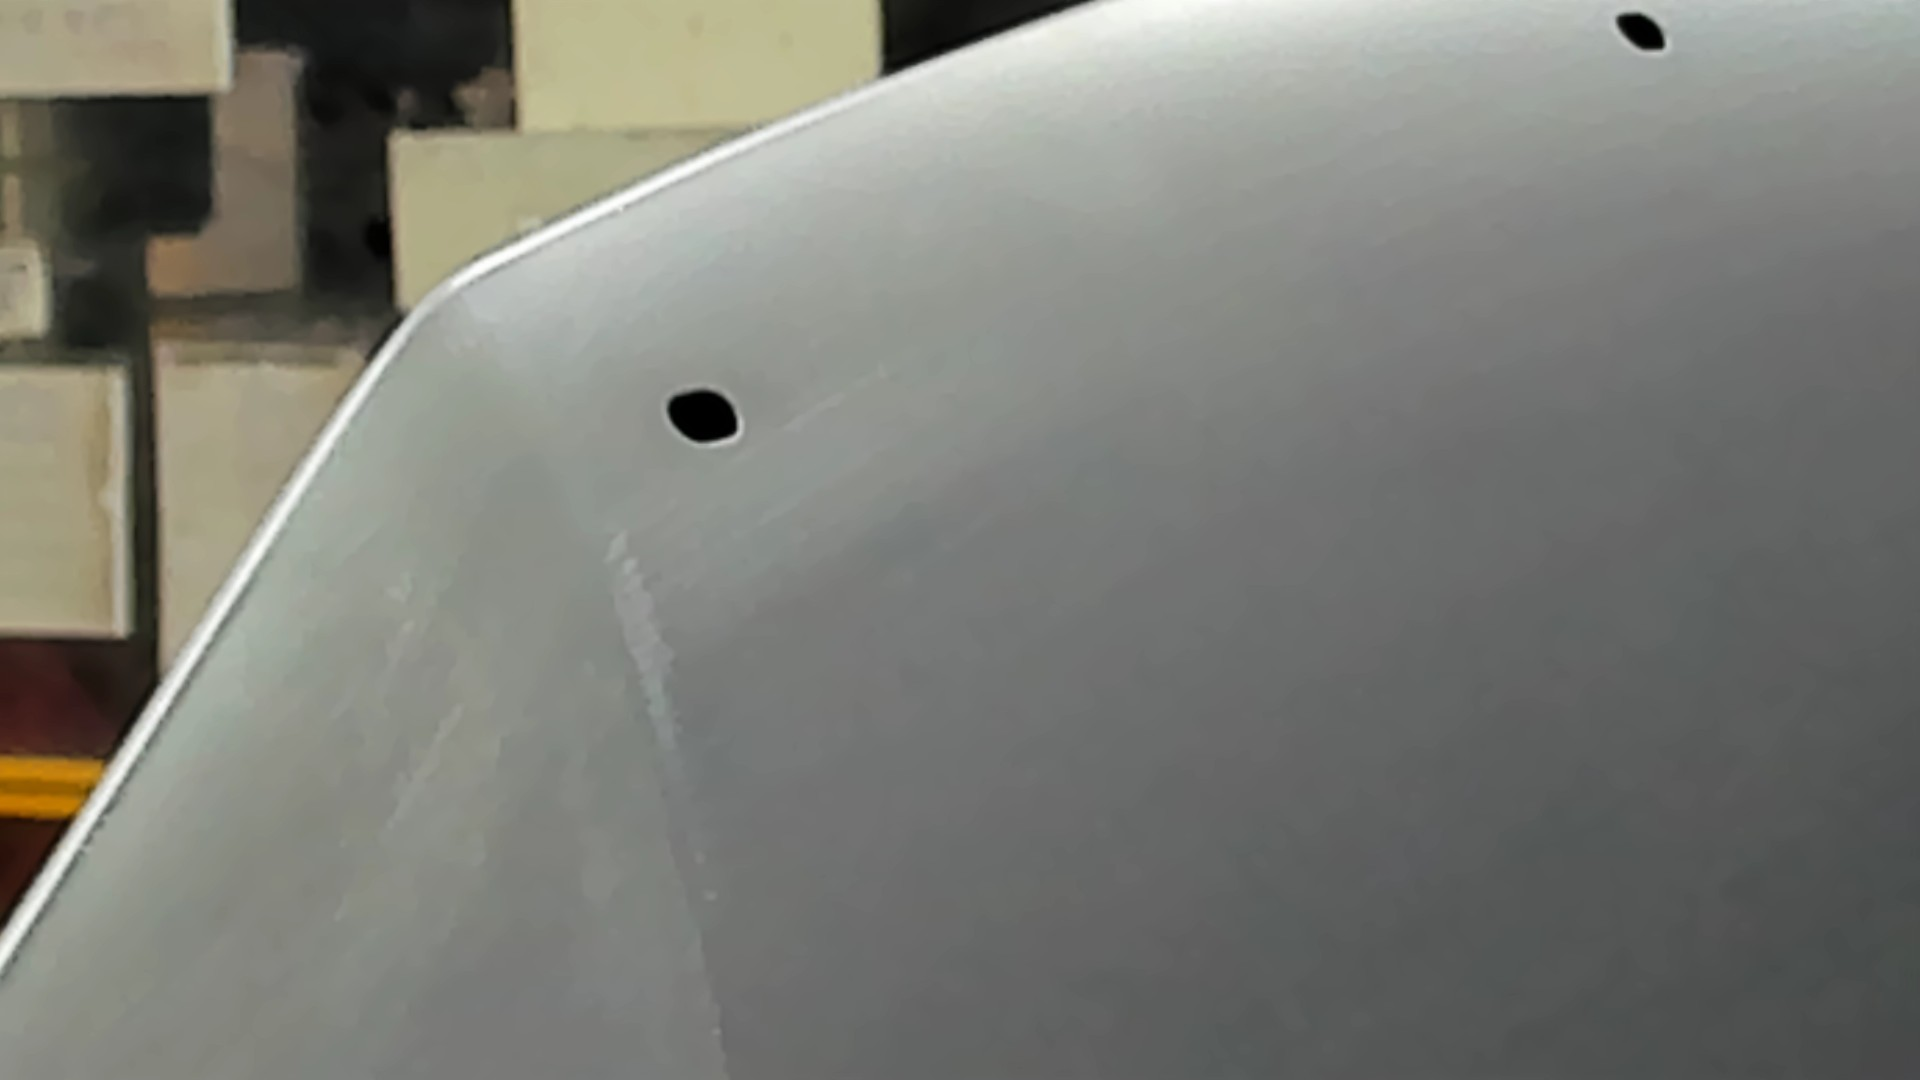amorfo: (659, 377, 742, 455), (1586, 4, 1680, 67)
